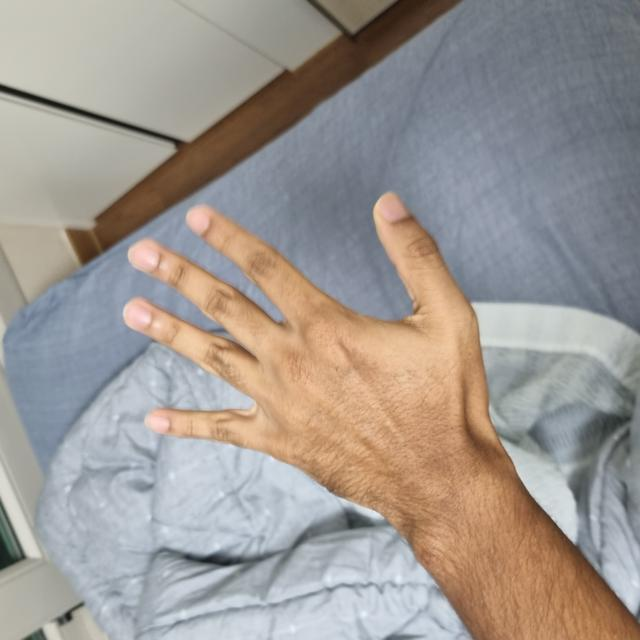Paper: (112, 127, 444, 493)
